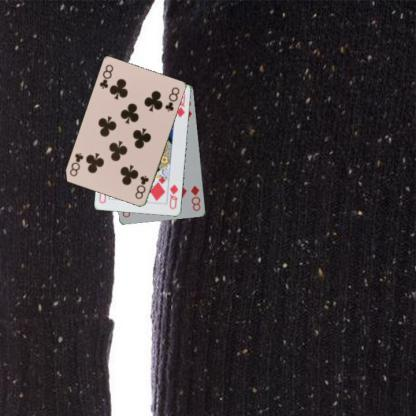8c: (132, 173, 150, 200), (97, 62, 114, 90)
8d: (188, 183, 202, 213)
Qd: (167, 182, 179, 210)
